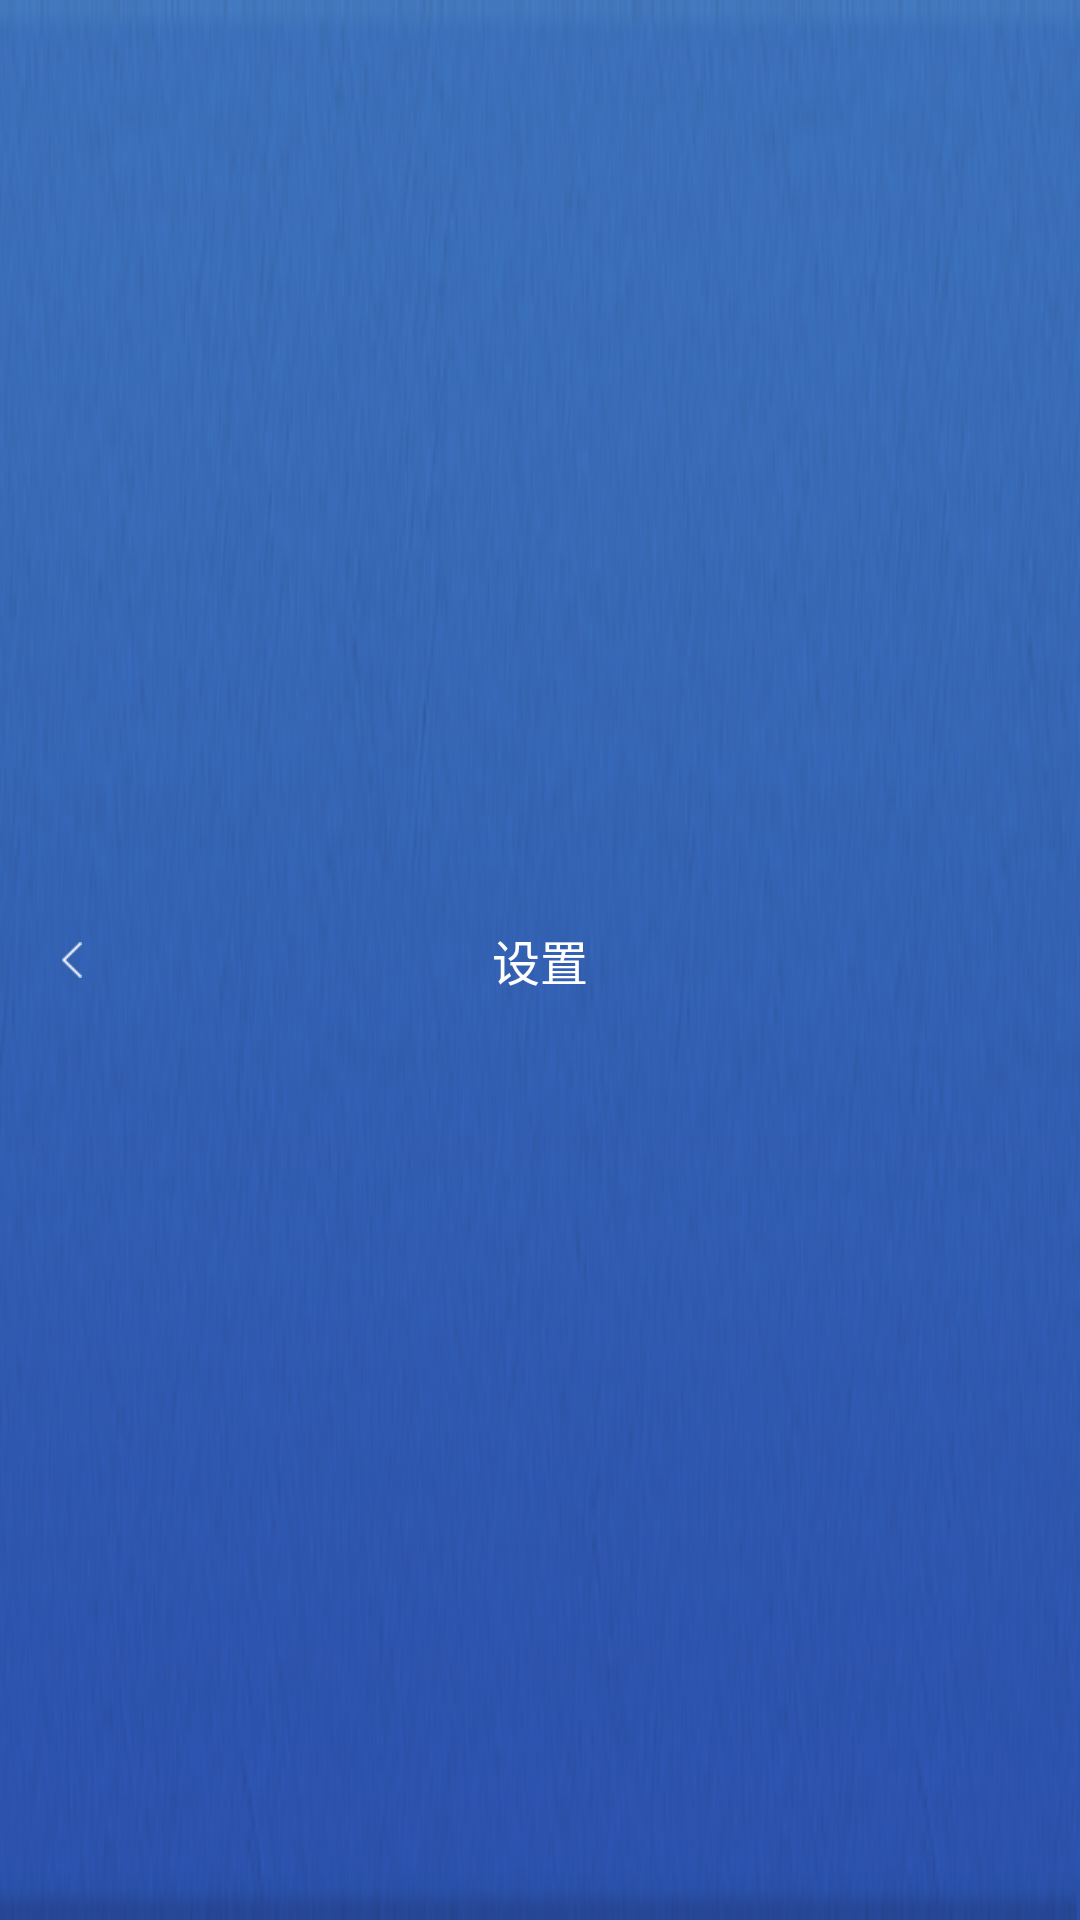

Point at icon controls on the screen. Image size 1080*1920, points as point (x, y).
back: point (72, 960)
